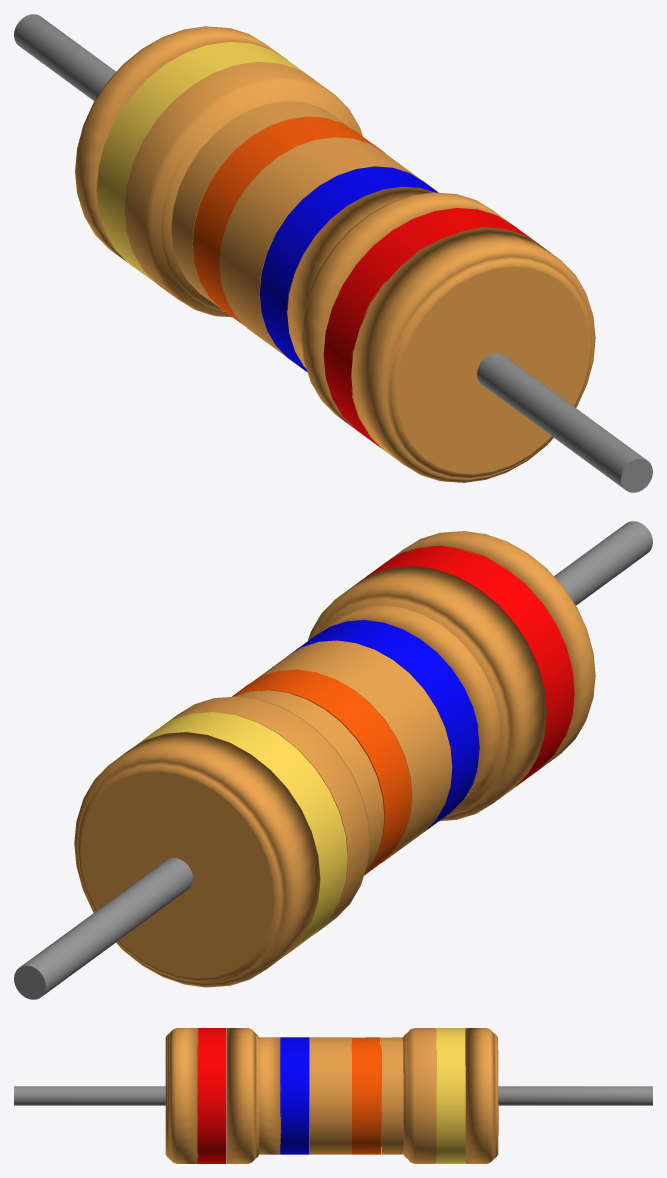
File: resistencia_v2.fbx
3 renders of one model, top to bottom at view 1: azimuth 30°, elevation 25°; view 2: azimuth 150°, elevation 25°; view 3: azimuth 270°, elevation 25°, orthographic. The views are drawn at different scales.
Parts seen in each view (by area): view 1: Cilindro01, Cilindro07, Cilindro03, Cilindro05, Cilindro08, Cilindro02, Cilindro04, Cilindro06, Cilindro00, Cilindro09, Cilindro10; view 2: Cilindro09, Cilindro03, Cilindro07, Cilindro05, Cilindro02, Cilindro08, Cilindro04, Cilindro06, Cilindro10, Cilindro01, Cilindro00; view 3: Cilindro07, Cilindro03, Cilindro05, Cilindro09, Cilindro01, Cilindro08, Cilindro02, Cilindro04, Cilindro06, Cilindro10, Cilindro00.
Boxes of the visible parts, x1,y1,x2,y2 form: Cilindro01: (351,227,595,482); Cilindro07: (124,62,362,317); Cilindro03: (286,186,512,428); Cilindro05: (219,137,422,357); Cilindro08: (96,42,314,282); Cilindro02: (323,208,539,448); Cilindro04: (259,166,438,372); Cilindro06: (192,117,385,326); Cilindro00: (477,353,652,492); Cilindro09: (75,26,287,261); Cilindro10: (14,14,115,100); Cilindro09: (74,732,320,987); Cilindro03: (308,566,546,820); Cilindro07: (160,690,384,934); Cilindro05: (254,640,452,862); Cilindro02: (358,545,574,787); Cilindro08: (133,712,347,954); Cilindro04: (289,620,479,831); Cilindro06: (232,669,411,875); Cilindro10: (14,858,193,999); Cilindro01: (385,531,595,766); Cilindro00: (554,521,652,605); Cilindro07: (381,1028,436,1163); Cilindro03: (226,1028,281,1163); Cilindro05: (310,1037,351,1154); Cilindro09: (465,1028,498,1163); Cilindro01: (165,1028,198,1163); Cilindro08: (436,1028,465,1163); Cilindro02: (197,1028,226,1163); Cilindro04: (280,1037,309,1154); Cilindro06: (351,1037,381,1154); Cilindro10: (498,1086,652,1105); Cilindro00: (14,1086,165,1105).
Size of the model in its own units: 1402 by 1400 by 6584.
